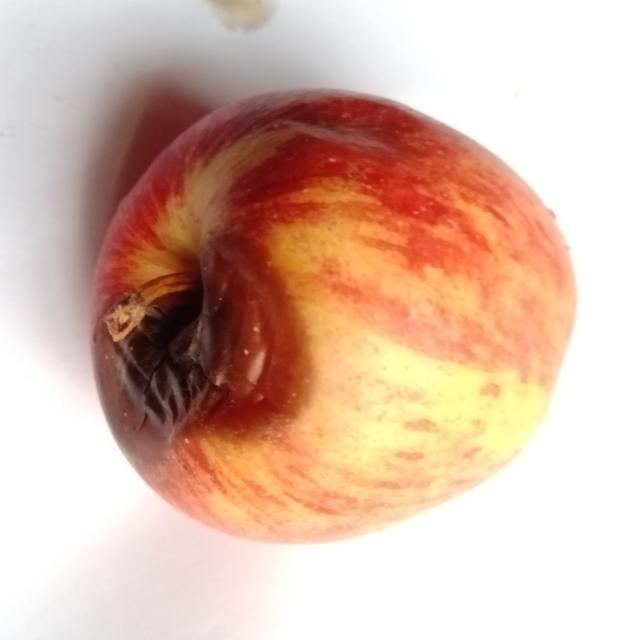apple: (93, 91, 575, 541)
